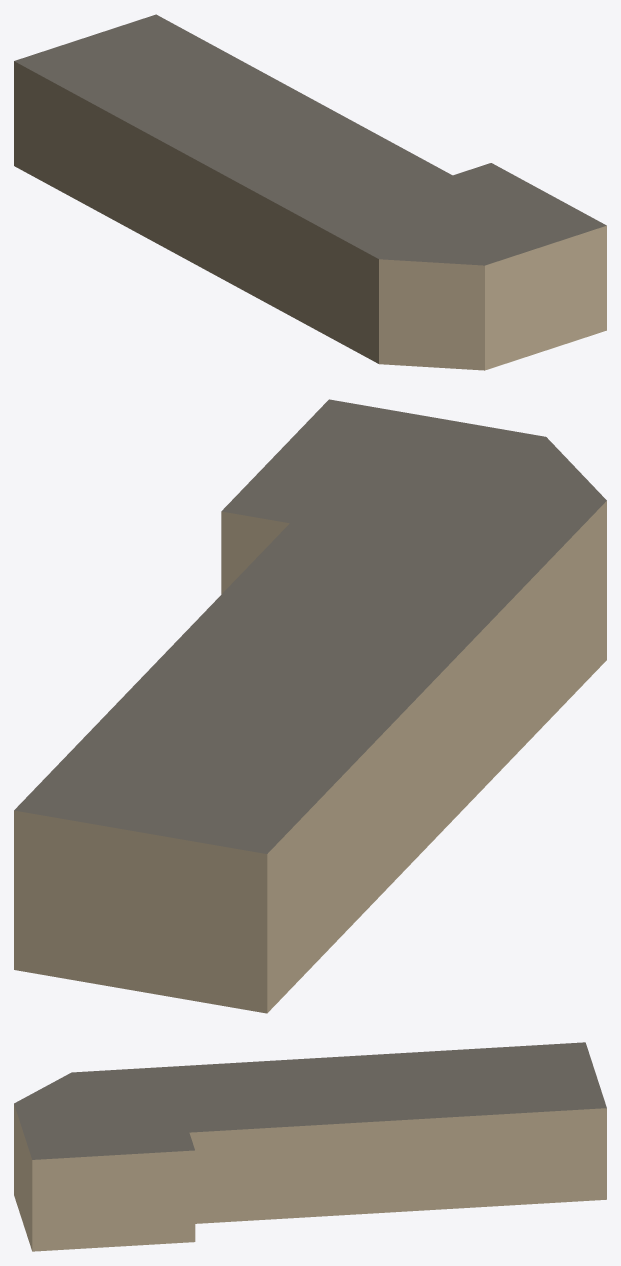
3 renders of one model, top to bottom at view 1: azimuth 30°, elevation 25°; view 2: azimuth 150°, elevation 25°; view 3: azimuth 270°, elevation 25°, orthographic. The views are drawn at different scales.
Visible parts, largest first — view 1: HP-w369342444; view 2: HP-w369342444; view 3: HP-w369342444.
Part boxes in pixels (<box>): HP-w369342444: <box>14,14,606,370</box>; HP-w369342444: <box>14,399,606,1013</box>; HP-w369342444: <box>14,1042,606,1251</box>.
Bounding box in the file's own units: 54.52 × 19.8 × 116.
